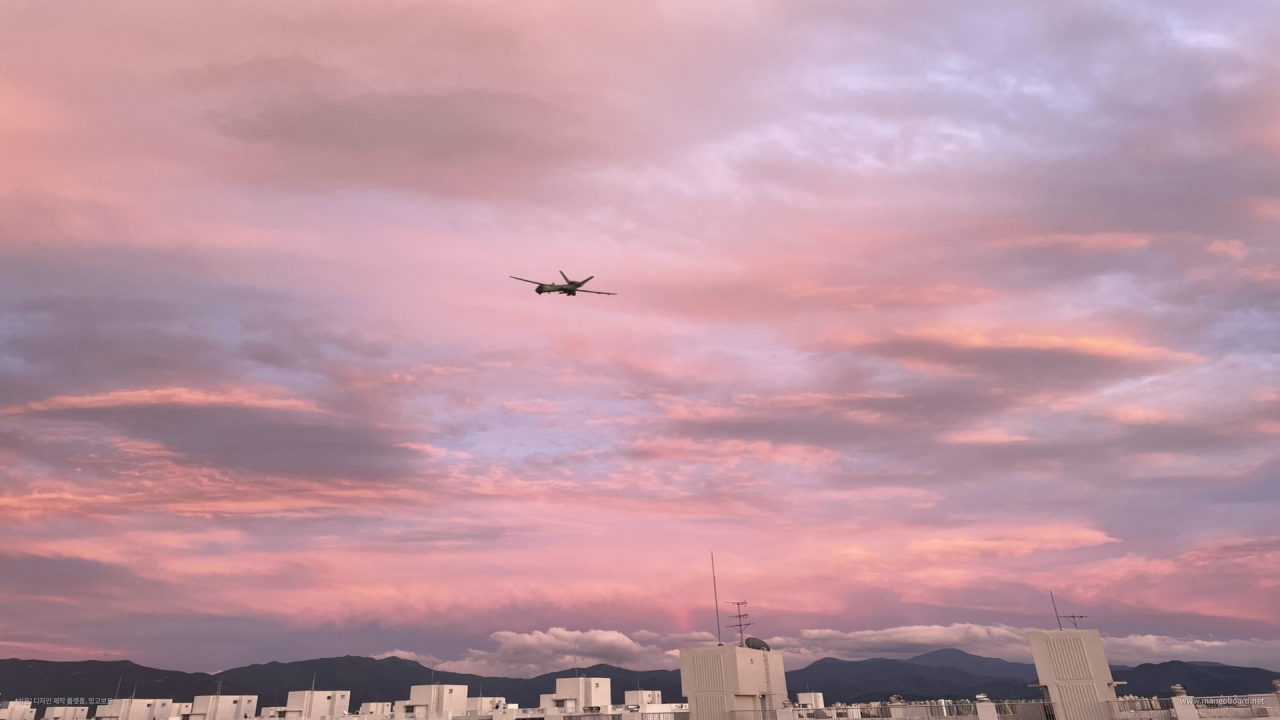military drone: (509, 270, 618, 296)
